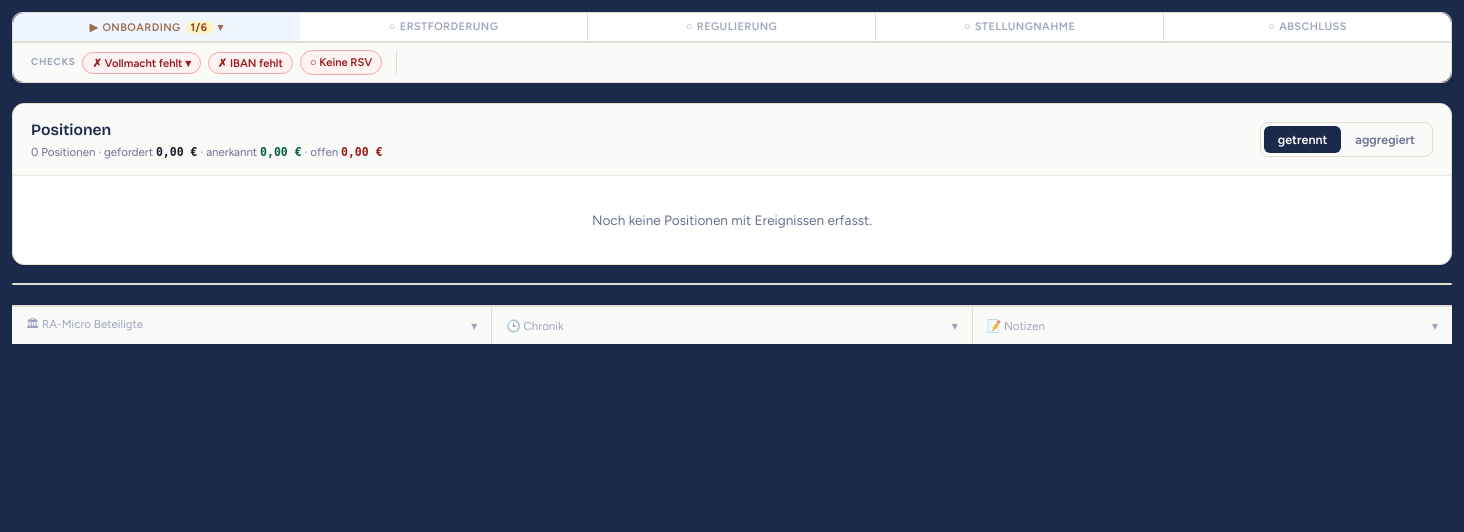
it: Redesign B — Onboarding-Fächer › öffnet den Fächer per Klick auf die Onboarding-Phase
The image size is (1464, 532).
Click the text "1/6": (199, 27) [185,21,214,34]
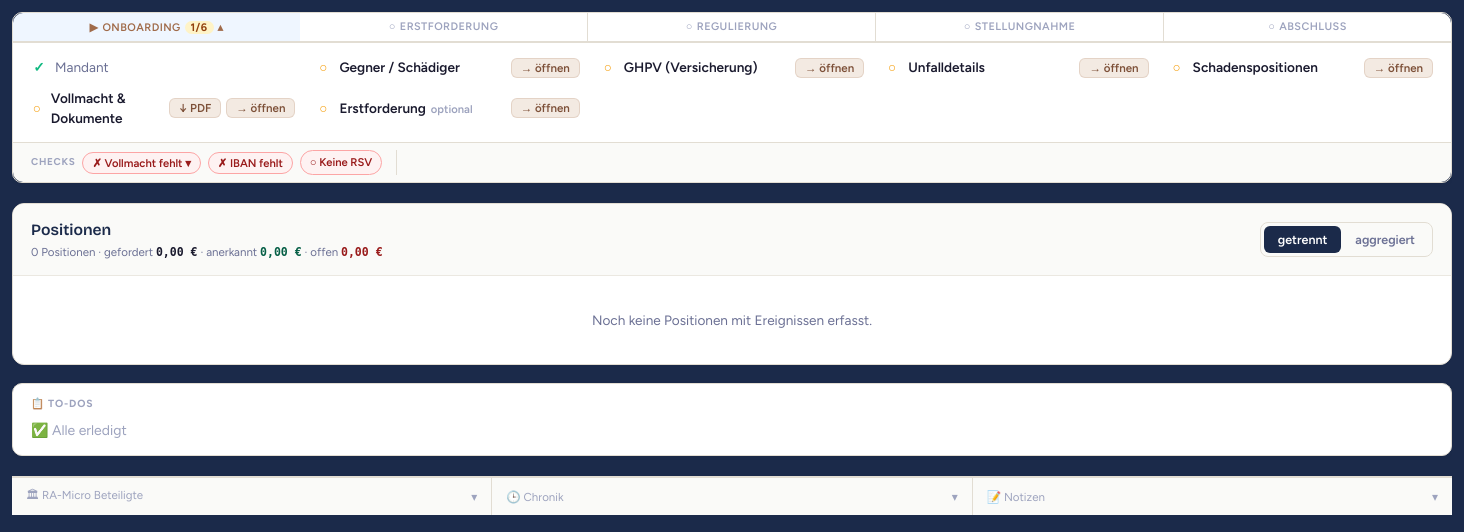
Expected: the text "Gegner / Schädiger" is shown, [339,57,460,78]
Expected: the text "Schadenspositionen" is shown, [1193,57,1318,78]
